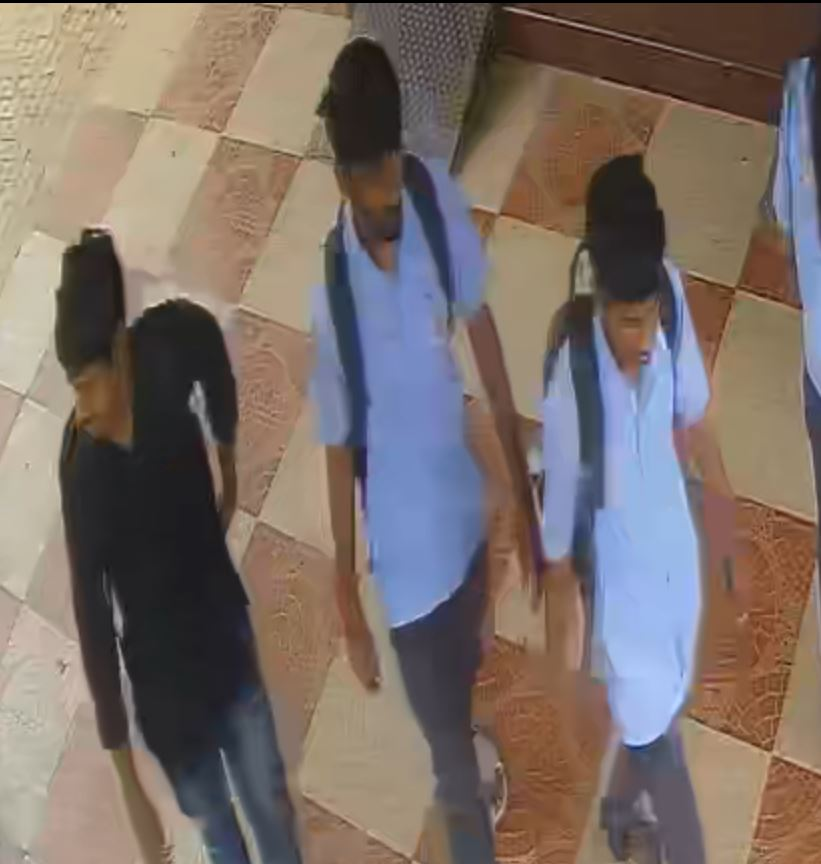intruder: (275, 26, 510, 864), (25, 212, 309, 864), (535, 102, 727, 864)
